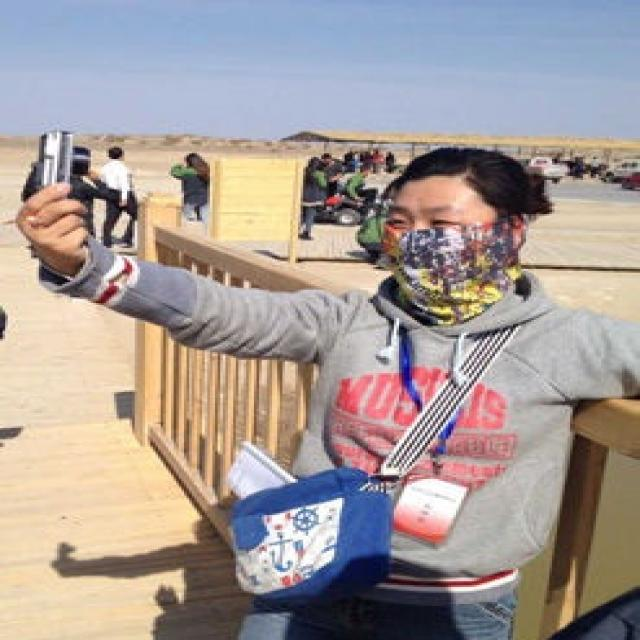mask: (382, 172, 499, 305)
